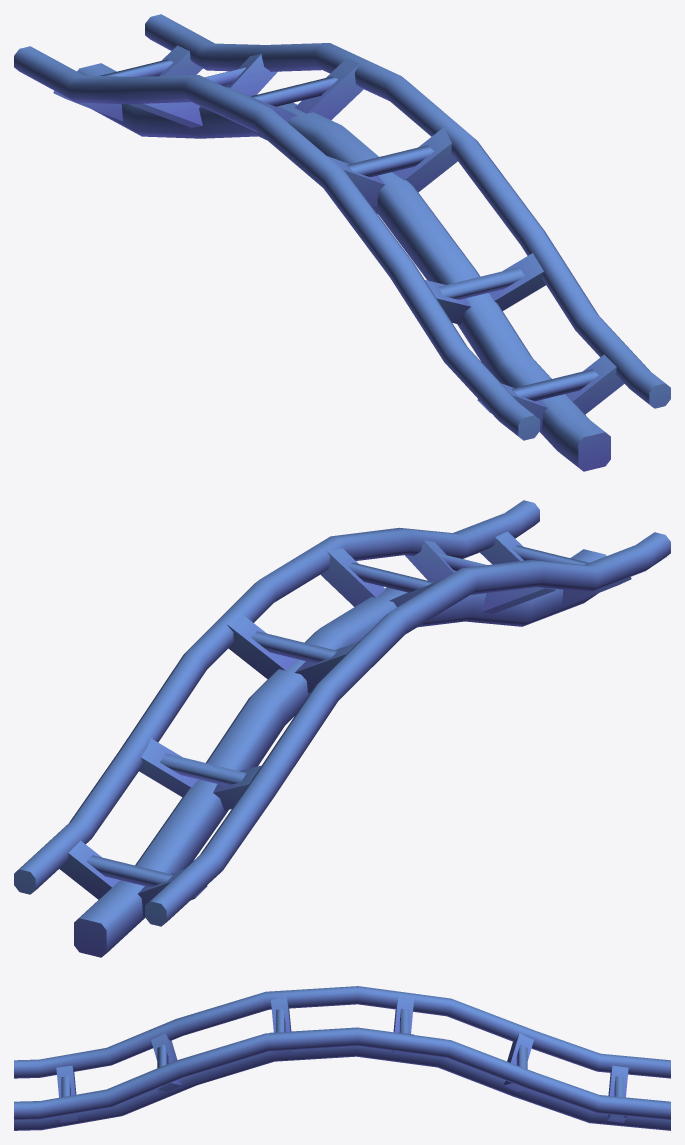
File: coaster-steel-straight-bump-up.glb
The picture shows the model from 3 angles, top to bottom: view 1: azimuth 30°, elevation 25°; view 2: azimuth 150°, elevation 25°; view 3: azimuth 270°, elevation 25°; orthographic projection. The views are drawn at different scales.
Parts seen in each view (by area): view 1: coaster-steel-straight-bump-up; view 2: coaster-steel-straight-bump-up; view 3: coaster-steel-straight-bump-up.
Boxes of the visible parts, x1,y1,x2,y2 form: coaster-steel-straight-bump-up: (14, 14, 670, 471); coaster-steel-straight-bump-up: (14, 500, 670, 957); coaster-steel-straight-bump-up: (14, 986, 670, 1130).
Bounding box in the file's own units: 0.6997 × 0.7984 × 4.
1 material, 1 textured.
